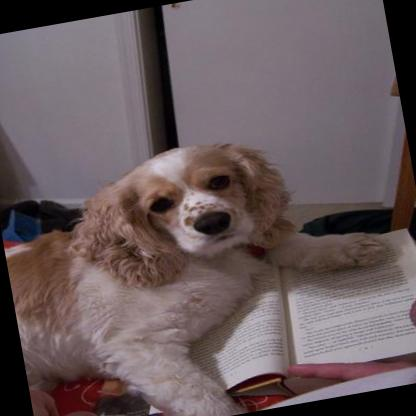cocker_spaniel: (0, 112, 416, 416)
